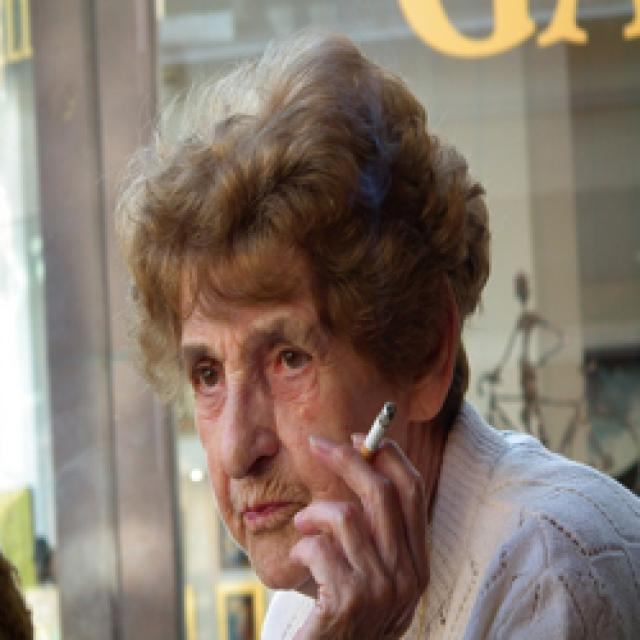Smooking: (354, 396, 410, 468)
